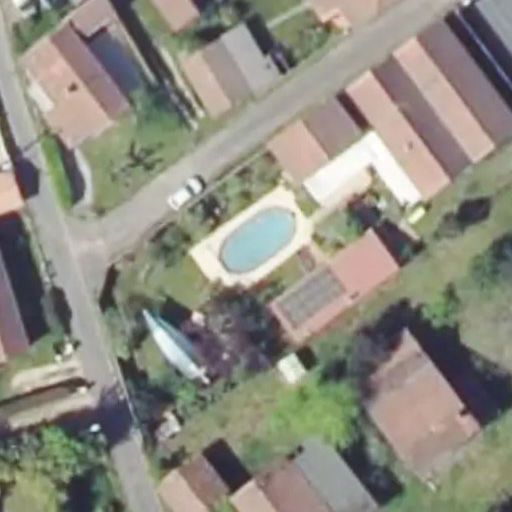pool: (220, 206, 296, 279)
